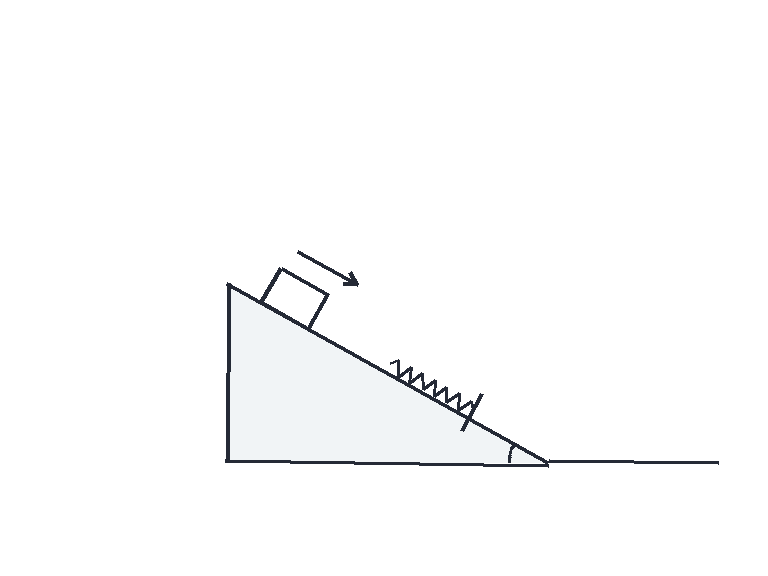block: (259, 266, 329, 330)
ramp: (225, 282, 551, 464)
spring: (387, 358, 475, 412)
